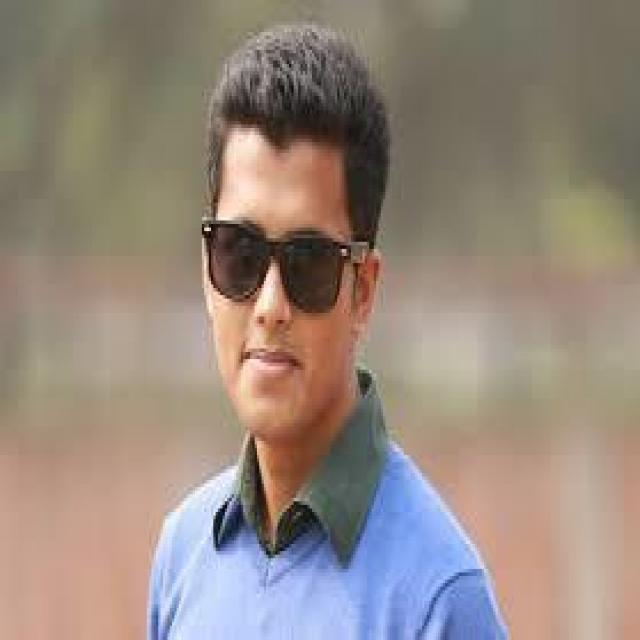person: (85, 21, 514, 633)
